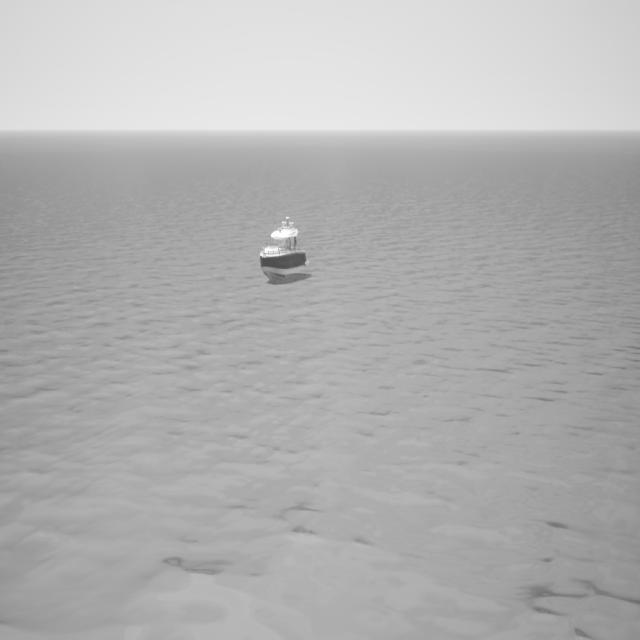ship: (262, 217, 311, 285)
